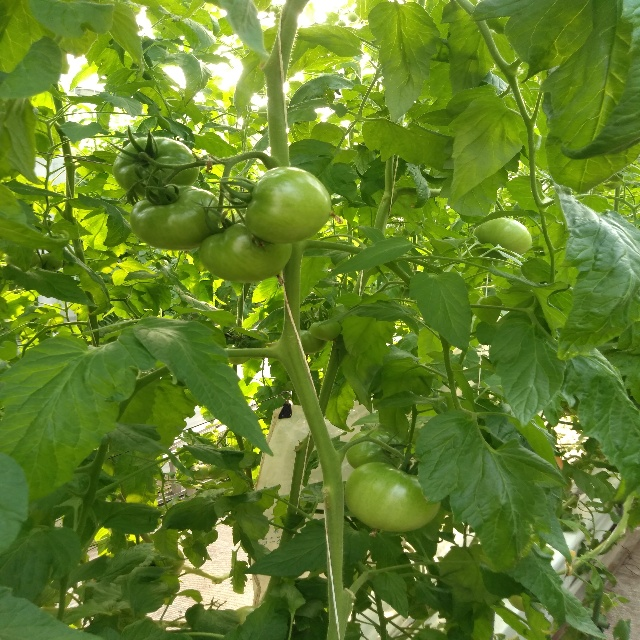b_green: (344, 461, 442, 532), (245, 167, 331, 245), (129, 184, 222, 250), (198, 223, 292, 283), (113, 136, 200, 198), (473, 217, 533, 257), (346, 430, 405, 470), (299, 329, 328, 354), (309, 320, 342, 341)
